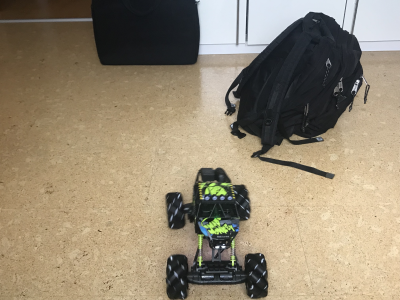remote control car: (161, 164, 270, 300)
